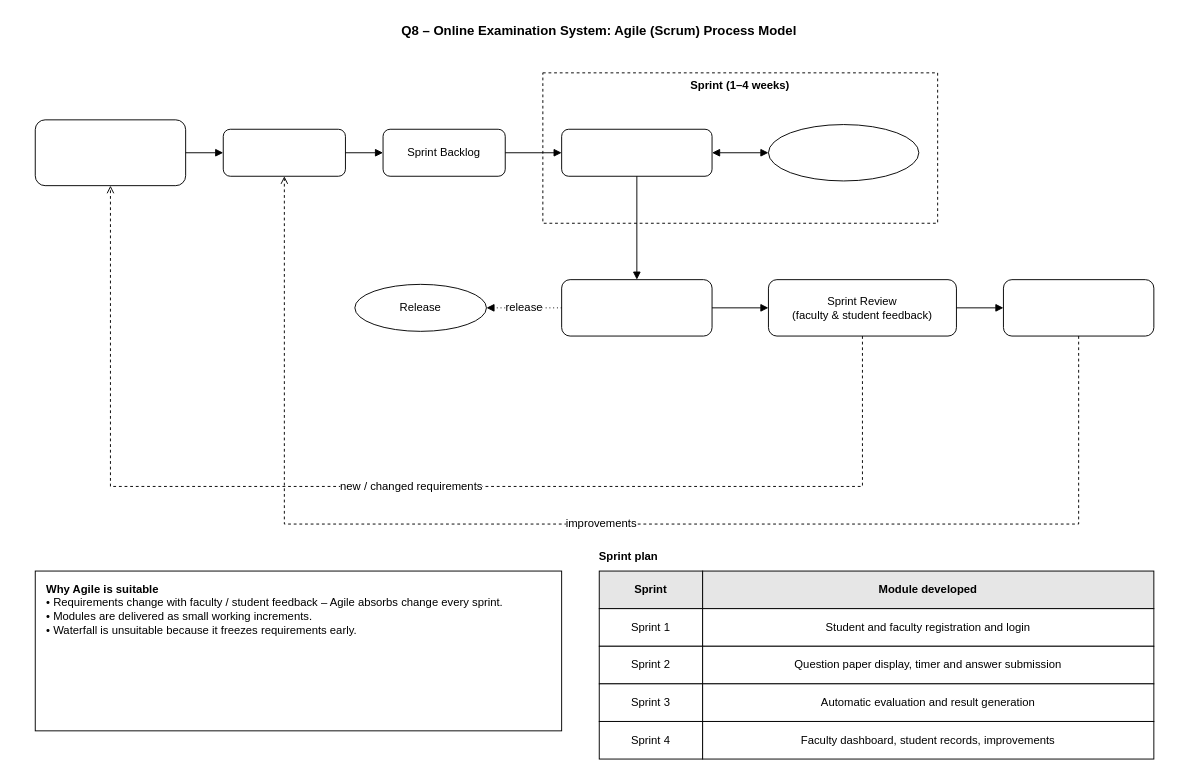
This 1198x776 diagram has some shape labels left out. The shapes that lost their labels are listed below. From the top down, each one's centre as x and y in pixels, then its label:
At point 110,152: "Product Backlog (exams, evaluation, results, records)".
At point 283,152: "Sprint Planning".
At point 636,152: "Design – Code – Test".
At point 843,152: "Daily Scrum (15 min)".
At point 636,307: "Working Increment (demo-able)".
At point 1078,307: "Sprint Retrospective".
